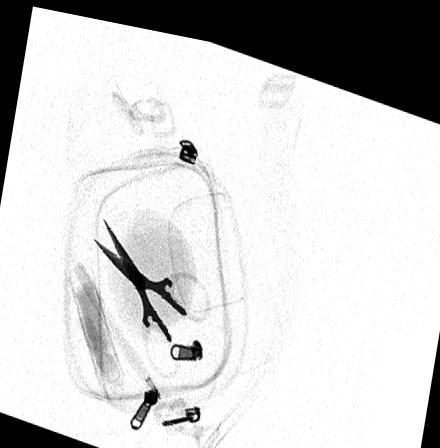Scissors: (88, 210, 212, 374)
